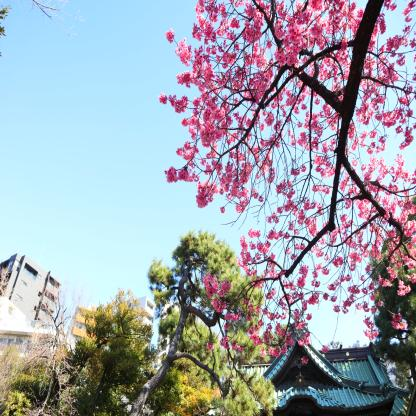KanhiSakura: (157, 0, 416, 356)
